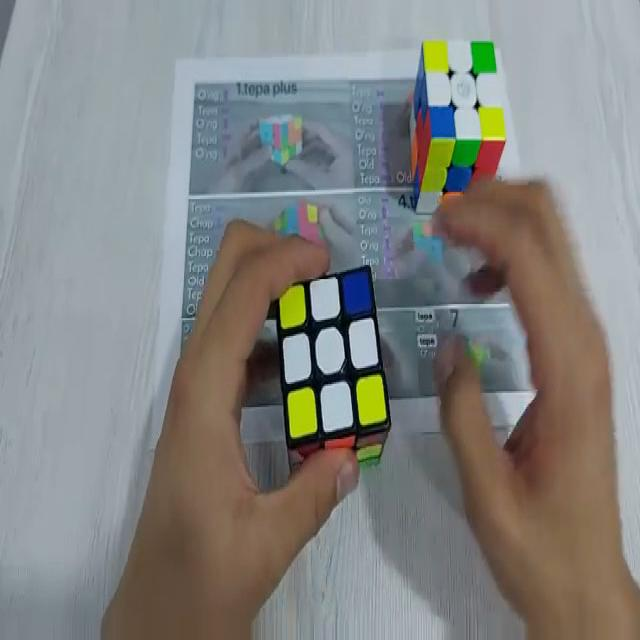Rub: (277, 265, 393, 474), (410, 39, 509, 213)
